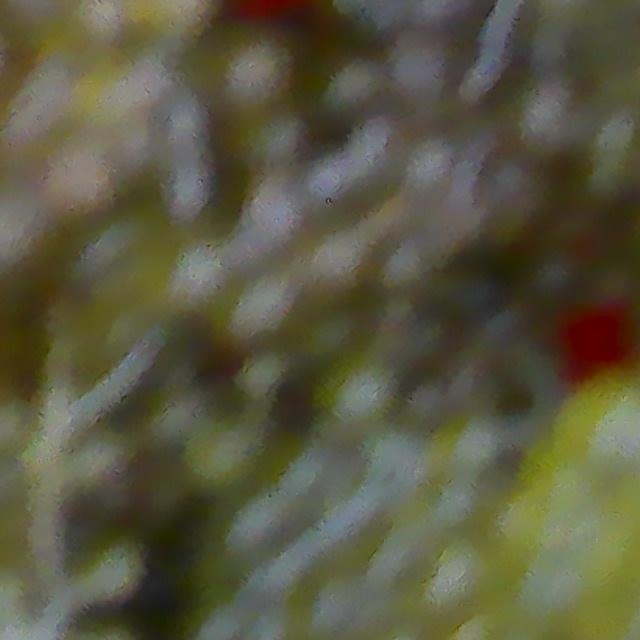SeaGrape: (552, 371, 640, 481), (423, 535, 501, 618), (213, 40, 288, 105), (395, 31, 443, 107), (520, 82, 578, 140), (323, 58, 369, 112)
